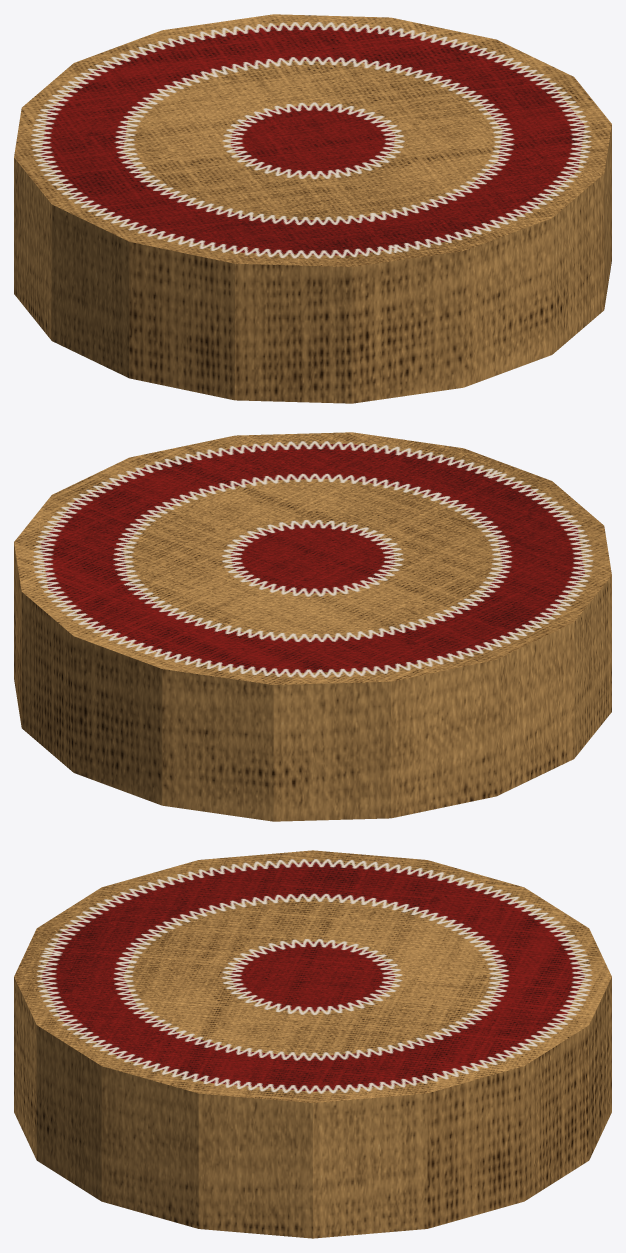
The model's file is target.dae.
The picture shows the model from 3 angles, top to bottom: view 1: azimuth 30°, elevation 25°; view 2: azimuth 150°, elevation 25°; view 3: azimuth 270°, elevation 25°; orthographic projection.
Parts seen in each view (by area): view 1: Circle_001; view 2: Circle_001; view 3: Circle_001.
Boxes of the visible parts, x1=… form: Circle_001: x1=14, y1=14, x2=611, y2=403; Circle_001: x1=14, y1=432, x2=611, y2=821; Circle_001: x1=14, y1=850, x2=611, y2=1238.
Size of the model in its own units: 2 by 2 by 0.5.
Materials: 1 (1 with a texture image).
